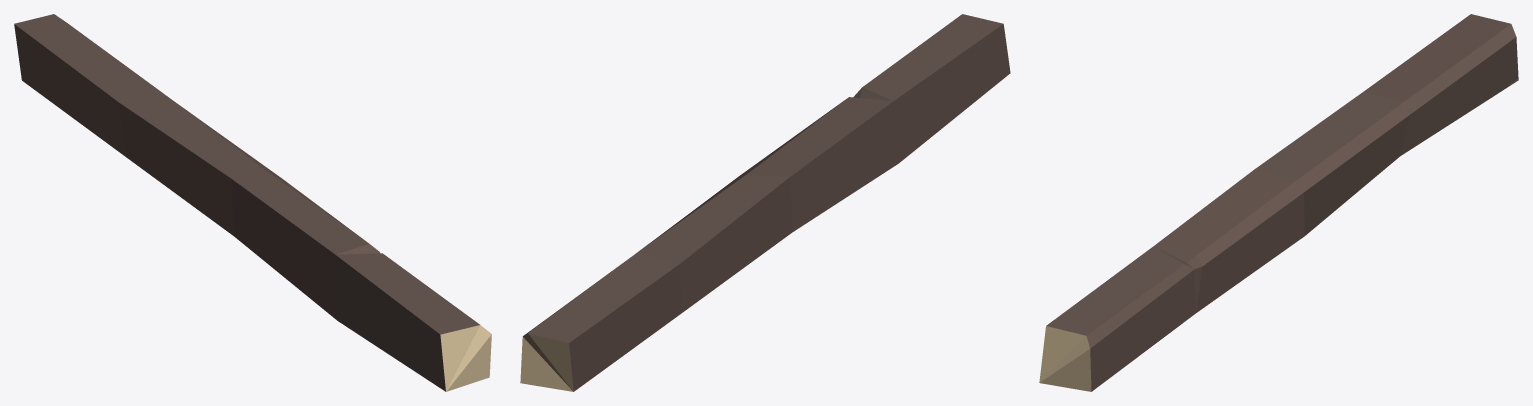
The model's file is beam_06.fbx.
3 renders of one model, left to right at view 1: azimuth 30°, elevation 25°; view 2: azimuth 150°, elevation 25°; view 3: azimuth 330°, elevation 25°, orthographic. The views are drawn at different scales.
Parts seen in each view (by area): view 1: beam_06; view 2: beam_06; view 3: beam_06.
Boxes of the visible parts, bbox=[...] form: beam_06: bbox=[14, 14, 491, 391]; beam_06: bbox=[520, 14, 1010, 391]; beam_06: bbox=[1039, 14, 1518, 391].
Bounding box in the file's own units: 13.7 × 16.47 × 199.
Materials: 1 (1 with a texture image).
